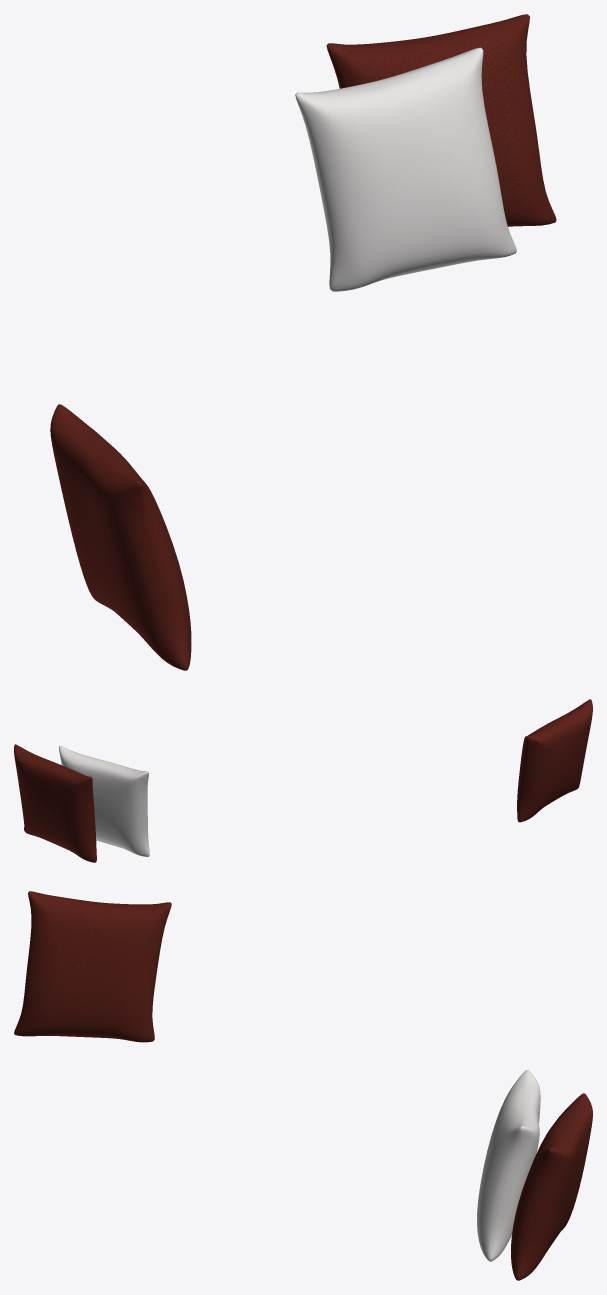
The model's file is Pillows.fbx.
The picture shows the model from 3 angles, top to bottom: view 1: azimuth 30°, elevation 25°; view 2: azimuth 150°, elevation 25°; view 3: azimuth 270°, elevation 25°; orthographic projection. The views are drawn at different scales.
Parts seen in each view (by area): view 1: Cuscino_biancodx, Cuscino_rossosx, Cuscino_FINAL; view 2: Cuscino_FINAL, Cuscino_rossosx, Cuscino_biancodx; view 3: Cuscino_rossosx, Cuscino_FINAL, Cuscino_biancodx.
Boxes of the visible parts, x1=… form: Cuscino_biancodx: x1=295, y1=47, x2=516, y2=291; Cuscino_rossosx: x1=50, y1=404, x2=191, y2=670; Cuscino_FINAL: x1=326, y1=14, x2=556, y2=226; Cuscino_FINAL: x1=14, y1=744, x2=96, y2=862; Cuscino_rossosx: x1=517, y1=699, x2=592, y2=822; Cuscino_biancodx: x1=59, y1=745, x2=149, y2=856; Cuscino_rossosx: x1=14, y1=891, x2=171, y2=1042; Cuscino_FINAL: x1=511, y1=1093, x2=592, y2=1280; Cuscino_biancodx: x1=477, y1=1070, x2=540, y2=1261.
Bounding box in the file's own units: 132 × 31.1 × 122.
